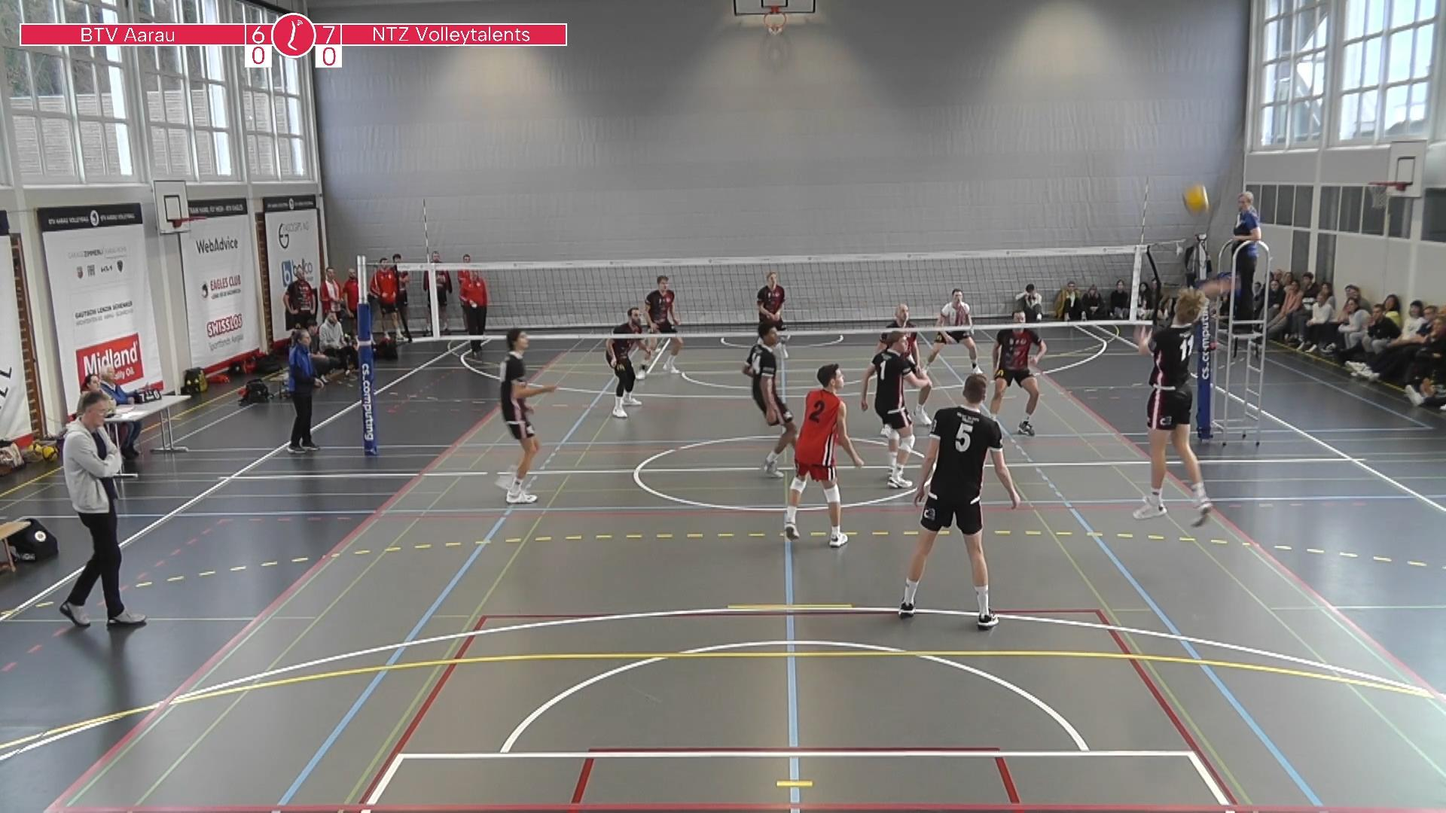attacco: (1128, 274, 1235, 530)
